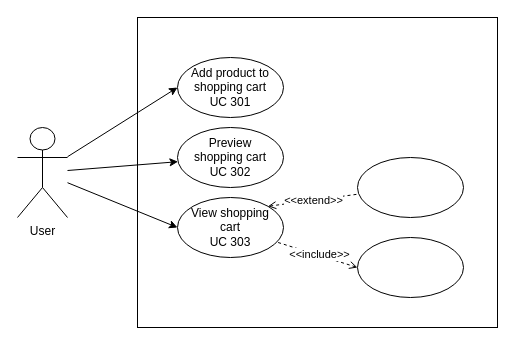
This 515x345 diagram has some shape labels left out. Here are the shapes that lost their labels. From the top down, the centre of each, then its label:
At pixel 410 187: "Edit shopping cart UC 304".
At pixel 410 267: "Calculate shipping costs UC 305".
